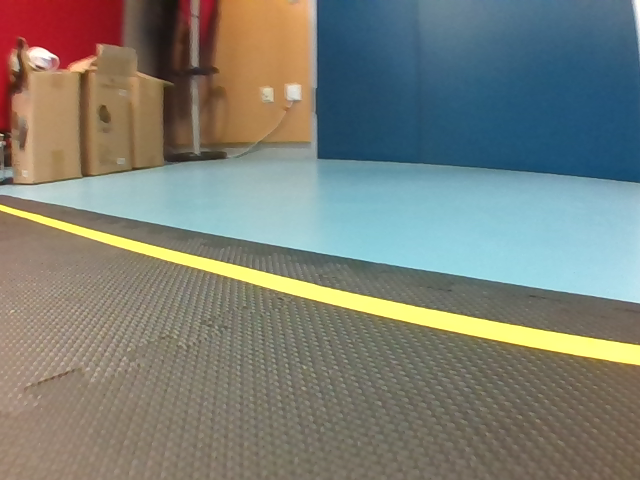30: (156, 102, 170, 144)
stop: (464, 69, 531, 135)
